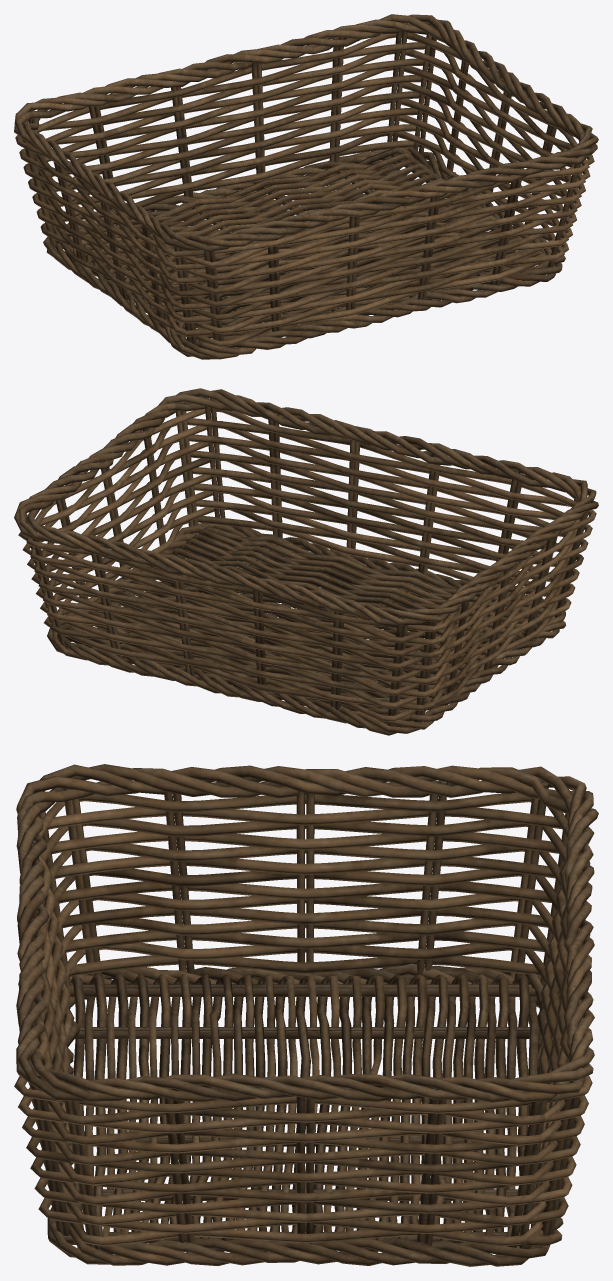
Rendered from wicker_basket_01_1k.glb.
3 views of the same model, one above another, from view 1: azimuth 30°, elevation 25°; view 2: azimuth 150°, elevation 25°; view 3: azimuth 270°, elevation 25° (orthographic). The views are drawn at different scales.
Parts seen in each view (by area): view 1: wicker_basket_01; view 2: wicker_basket_01; view 3: wicker_basket_01.
Boxes of the visible parts, box(x1,y1,x2,y2) form: wicker_basket_01: box(14, 14, 598, 359); wicker_basket_01: box(14, 388, 598, 735); wicker_basket_01: box(14, 764, 598, 1266).
Bounding box in the file's own units: 0.3832 × 0.1174 × 0.295.
1 material, 1 textured.
